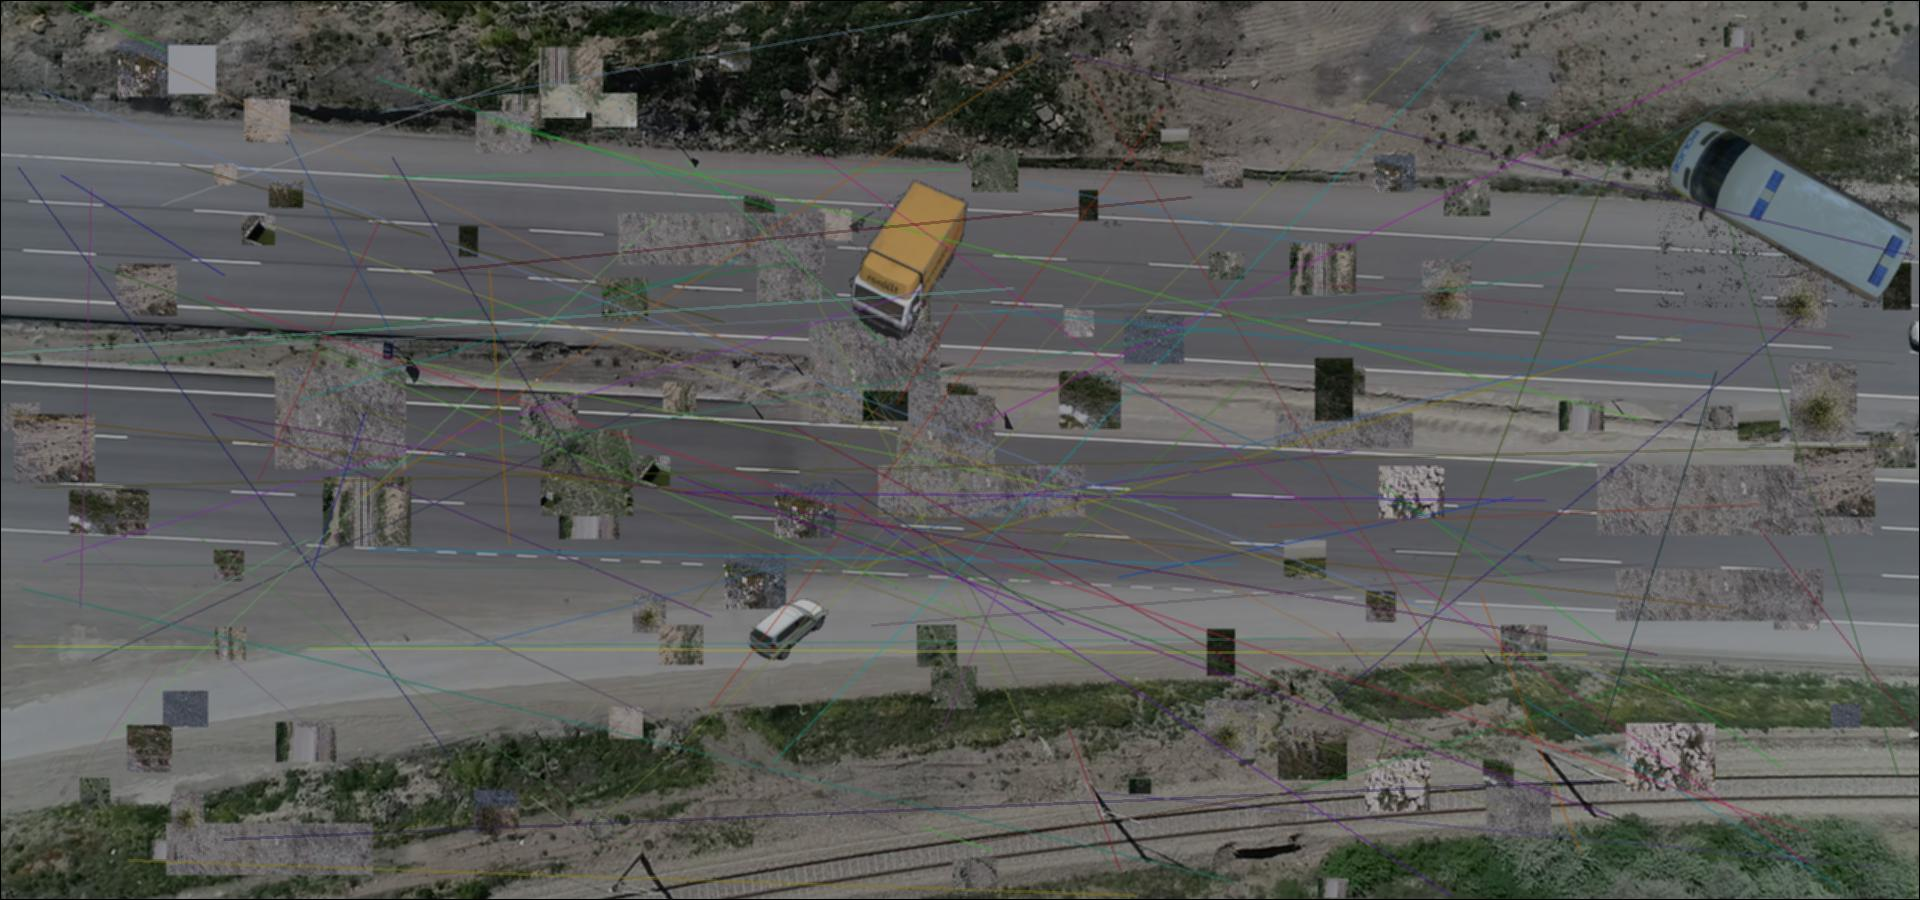arac: (1656, 115, 1911, 307), (849, 178, 972, 342), (747, 593, 828, 662)
